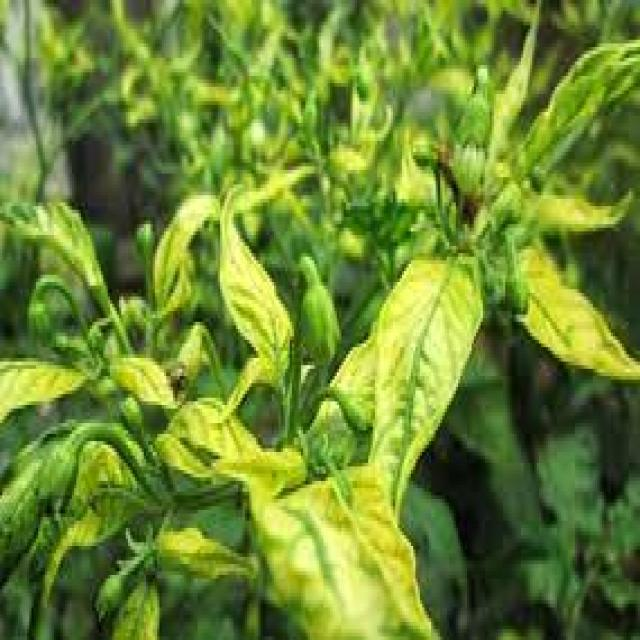virus_kuning: (371, 251, 483, 530), (211, 176, 294, 390), (521, 271, 640, 383)
